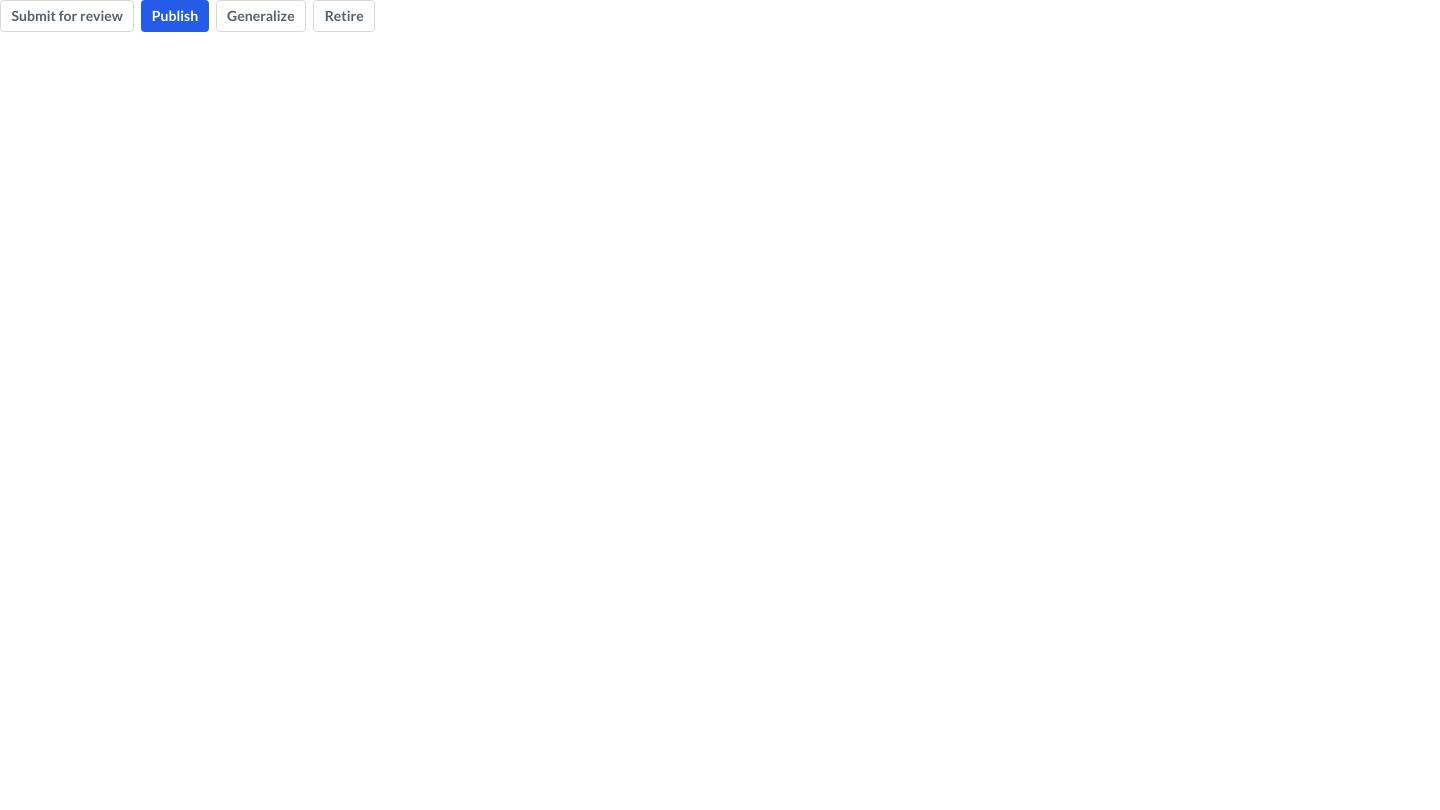
Test: article actions › opens the findings sheet when generalize returns identifiers
This screenshot has width=1440, height=810.
Click the button "Generalize" at (261, 16), box [216, 0, 306, 32]
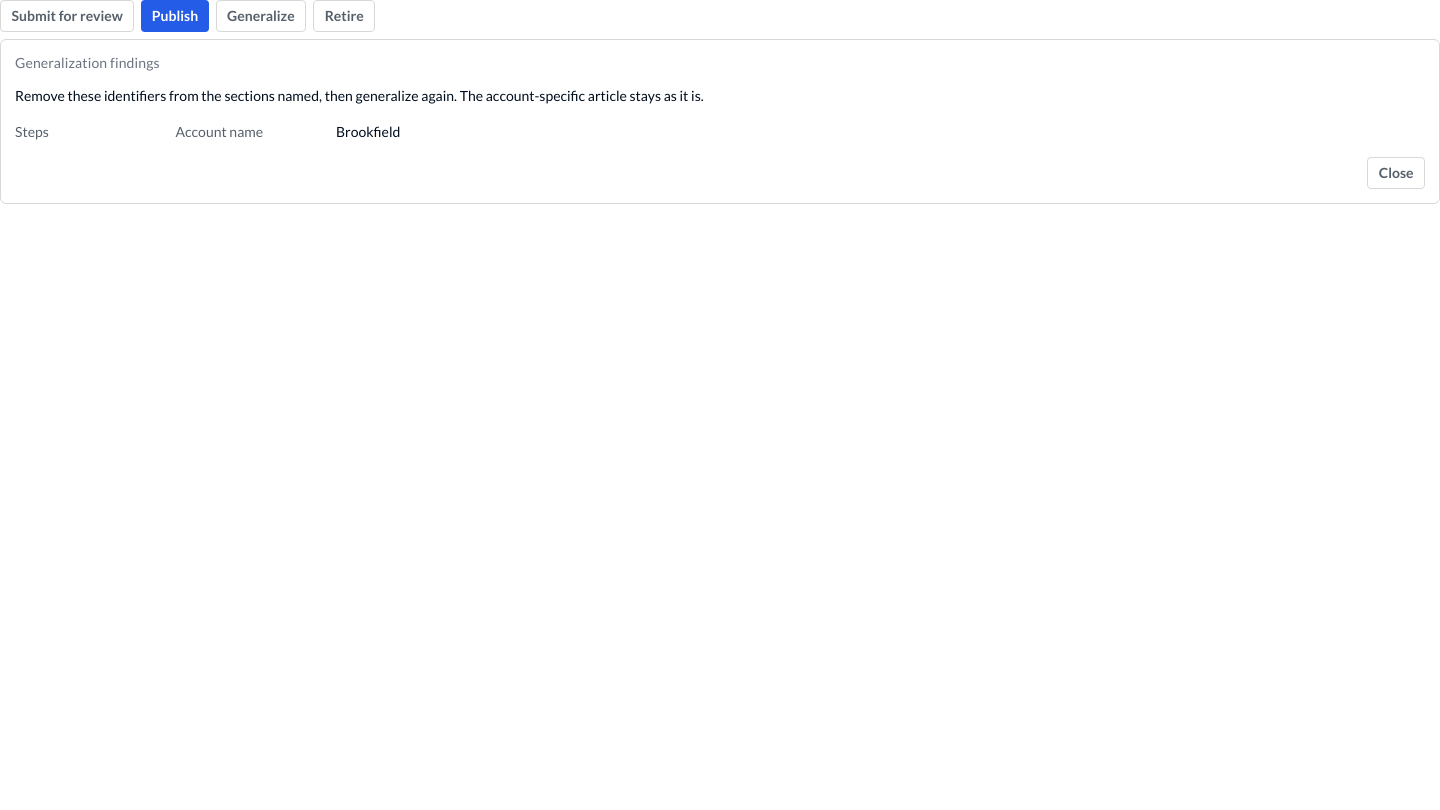
Now the dialog "Generalization findings" shows "Steps", box [15, 123, 49, 140]
Now the dialog "Generalization findings" shows "Account name", box [176, 123, 263, 140]
Now the dialog "Generalization findings" shows "Brookfield", box [336, 123, 400, 140]
